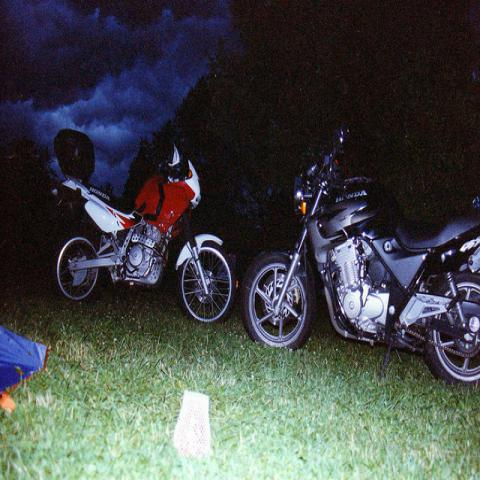motorcycle: (244, 122, 479, 384), (52, 131, 237, 328)
